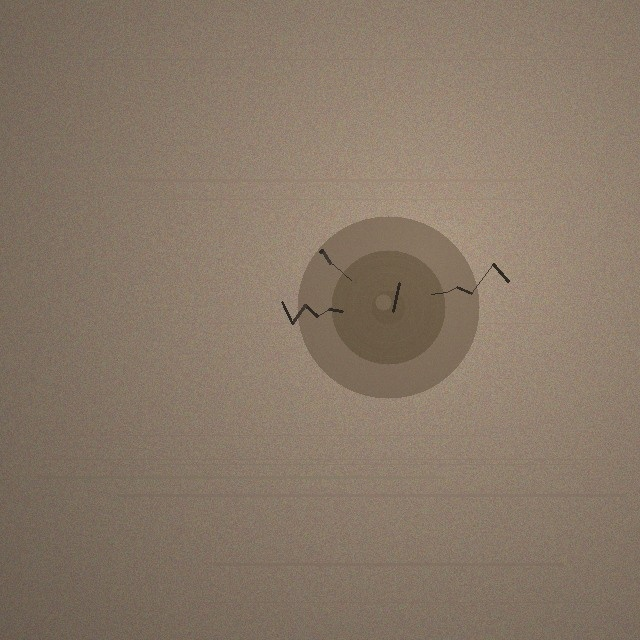crack: (297, 216, 479, 398)
